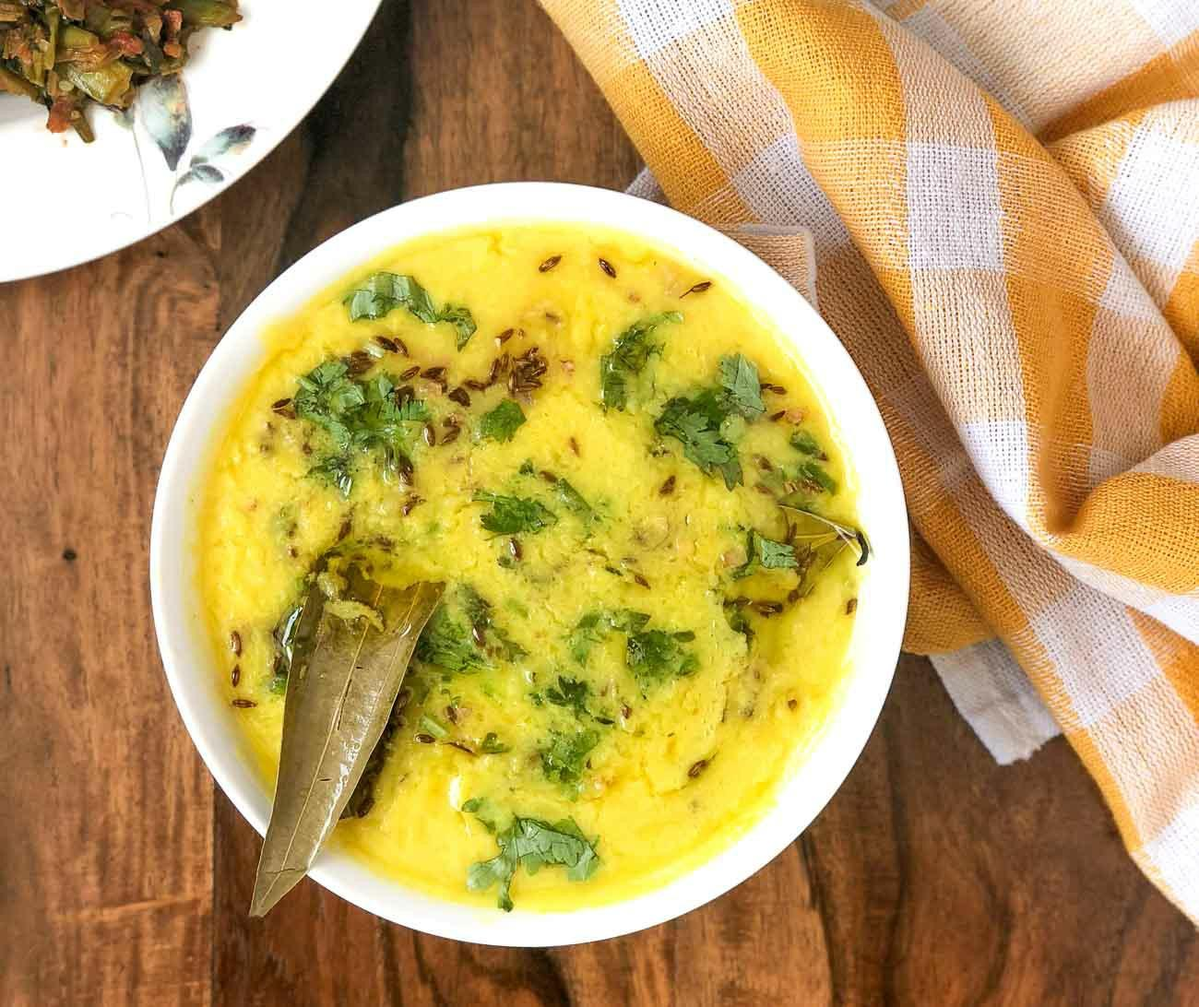Dal: (204, 224, 860, 910)
